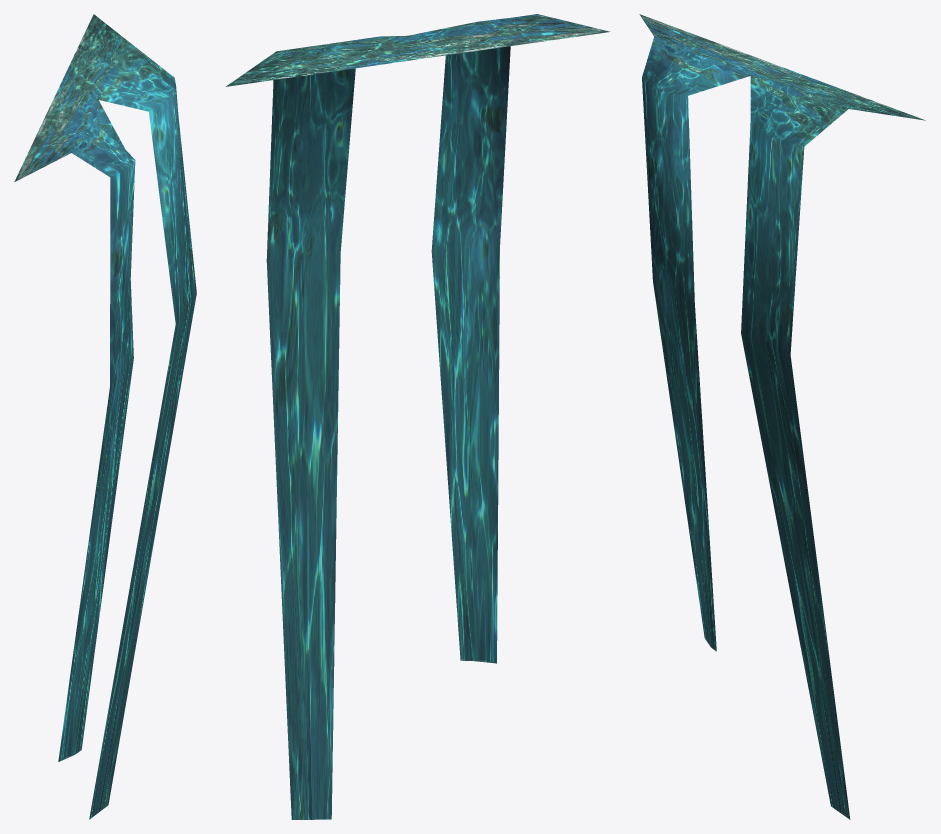
File: Mine_shanti02shui1_2.FBX
3 renders of one model, left to right at view 1: azimuth 30°, elevation 25°; view 2: azimuth 150°, elevation 25°; view 3: azimuth 270°, elevation 25°, orthographic. The views are drawn at different scales.
Visible parts, largest first — view 1: Plane008; view 2: Plane008; view 3: Plane008.
Part boxes in pixels (x1,y1,x2,y2): Plane008: (14, 14, 196, 819); Plane008: (225, 14, 610, 819); Plane008: (639, 14, 925, 819).
Bounding box in the file's own units: 2999 × 8308 × 3015.
Materials: 1 (1 with a texture image).
